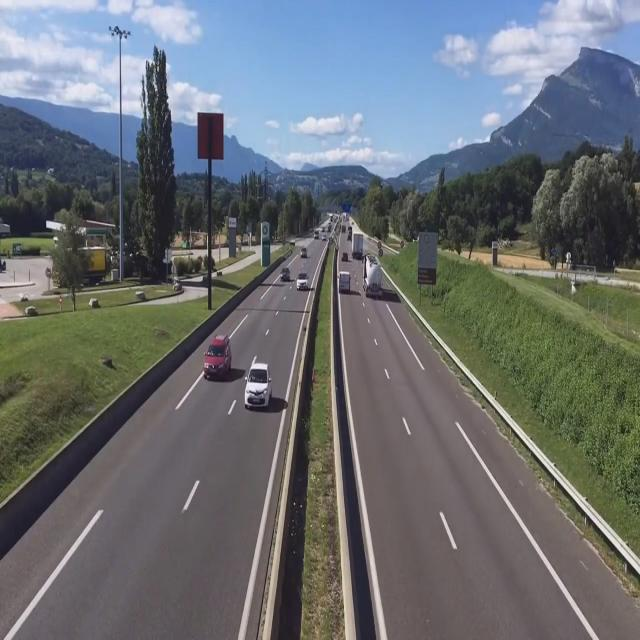car: (203, 336, 233, 383), (242, 359, 270, 408), (296, 272, 308, 291), (280, 266, 292, 284)
truck: (361, 255, 383, 299)
